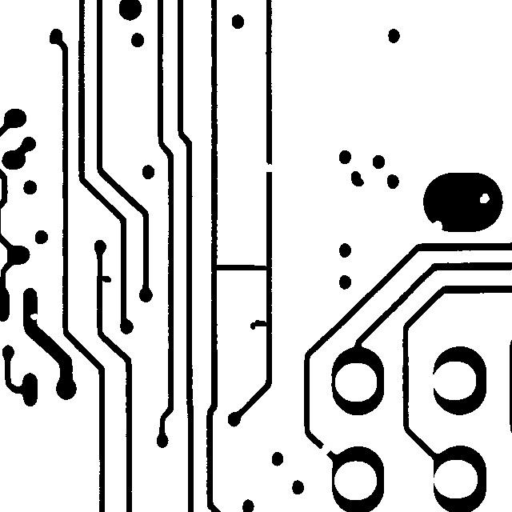copper: (343, 163, 371, 194)
mousebite: (425, 213, 450, 237), (22, 306, 45, 327)
open: (307, 437, 338, 463), (252, 153, 282, 179)
pin-hole: (472, 186, 497, 210)
short: (206, 257, 276, 278)
spur: (242, 312, 279, 337), (92, 268, 118, 290)
